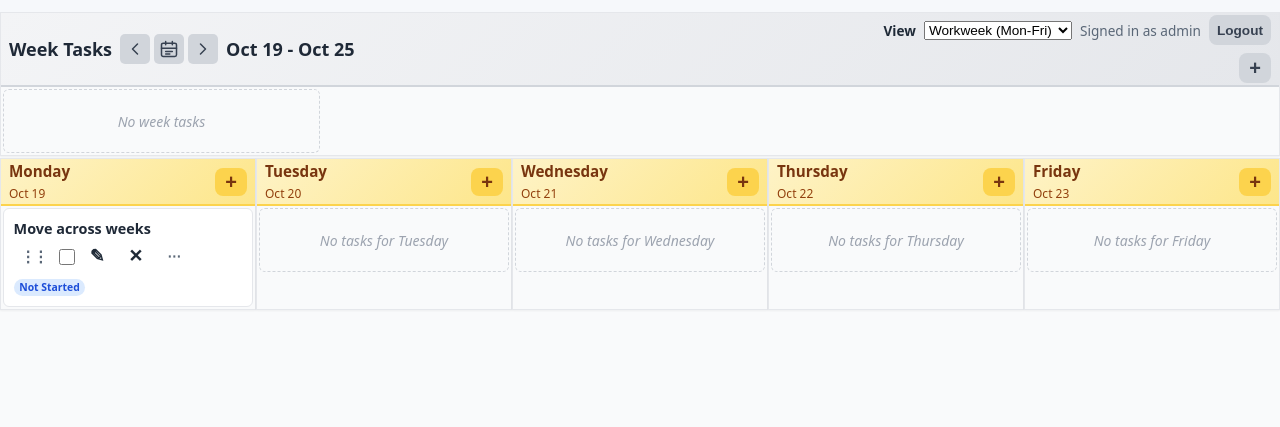
BoardPage week navigation › moves a task to another week with the context-menu Move here flow
Click the button named "More actions for Move across weeks".
click(174, 257)  # box top-left (158, 244), bottom-right (190, 270)
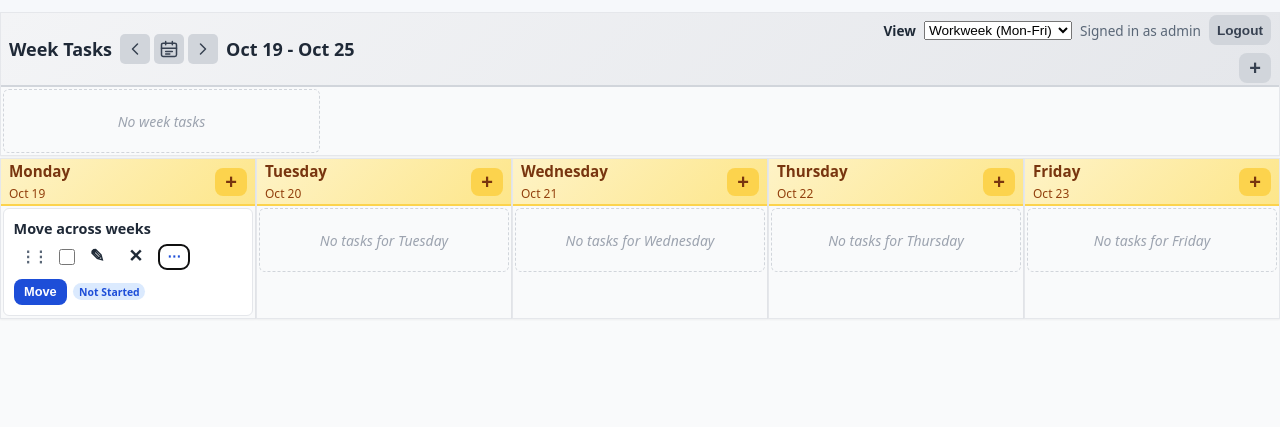
Click the menu item "Move".
click(40, 292)  # box top-left (14, 279), bottom-right (67, 305)
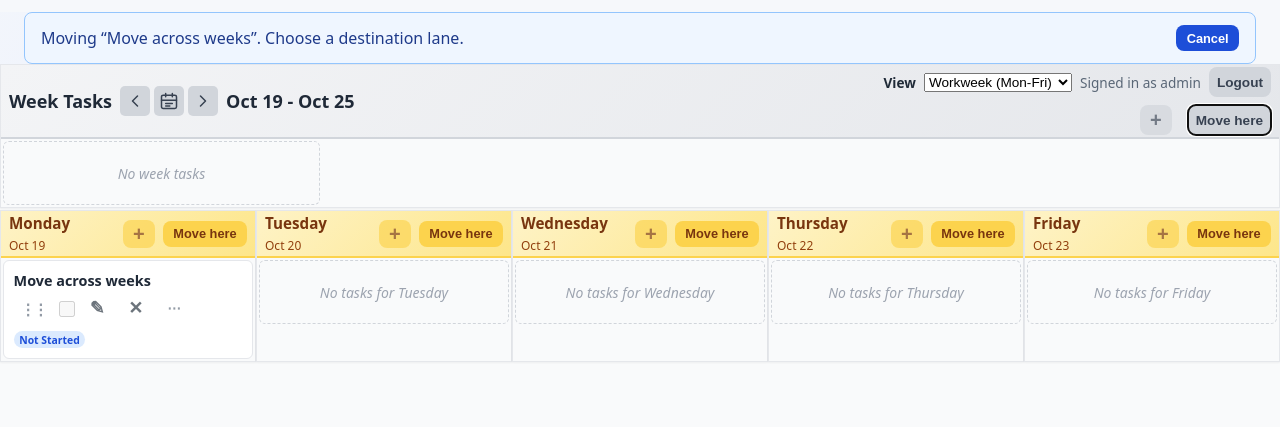
Expected: the button with aria-label "Cancel move" is shown, top-left (1176, 25), bottom-right (1239, 51)
Click the button named "Go to next week".
click(203, 101)  # box top-left (188, 86), bottom-right (218, 116)
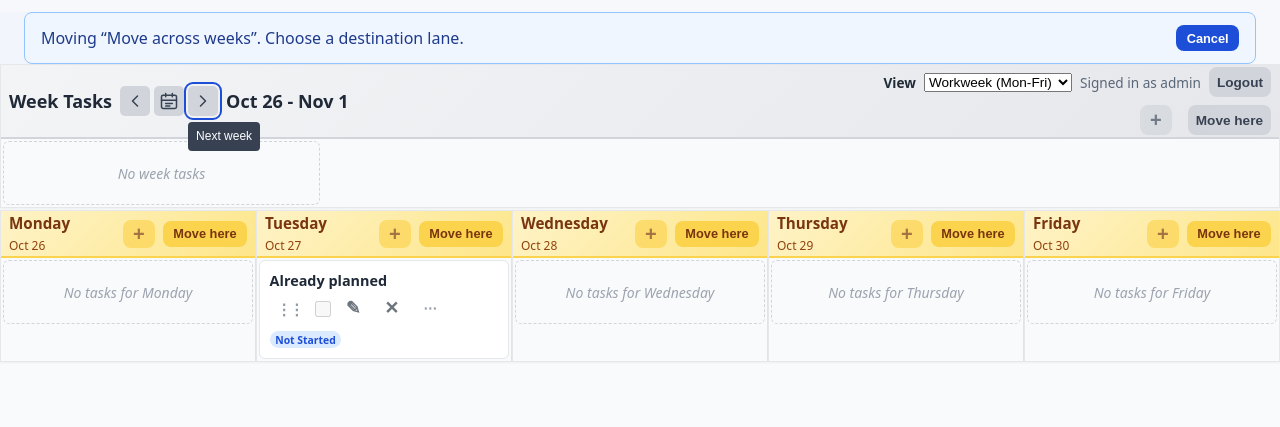
Click the button with aria-label "Move here to Tuesday".
click(461, 234)  # box top-left (419, 221), bottom-right (503, 247)
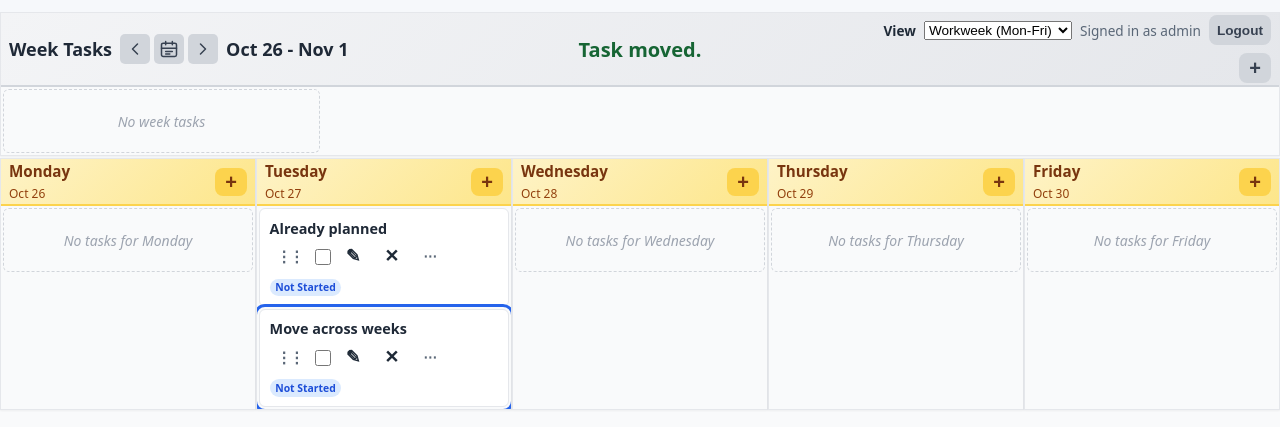
Expected: the text "Move across weeks" is shown once, top-left (270, 319), bottom-right (407, 338)
Expected: the text "Already planned" is shown once, top-left (270, 219), bottom-right (387, 238)
Click the button named "Go to previous week".
click(135, 49)  # box top-left (120, 34), bottom-right (150, 64)
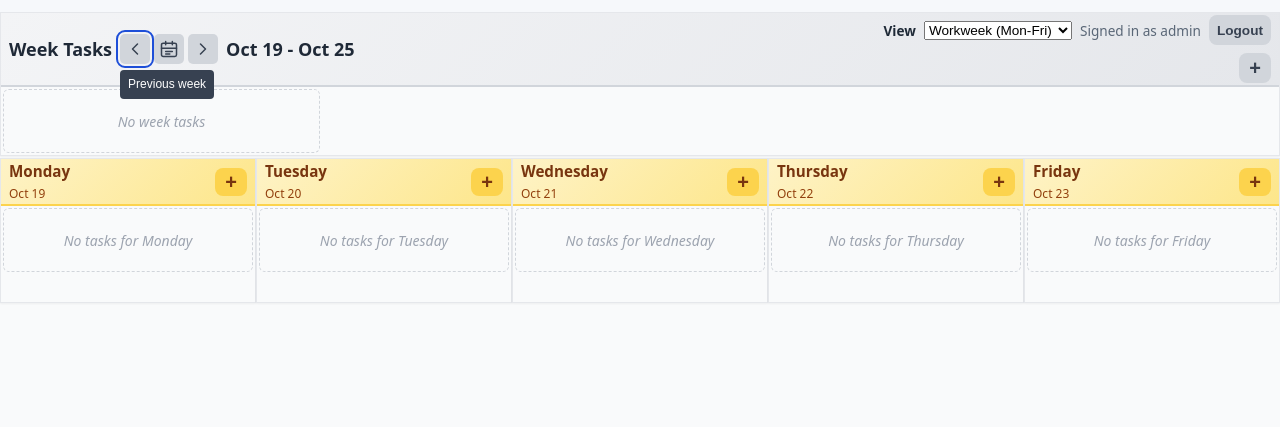
Expected: the text "Move across weeks" is gone
Click the button named "Go to next week".
click(203, 49)  # box top-left (188, 34), bottom-right (218, 64)
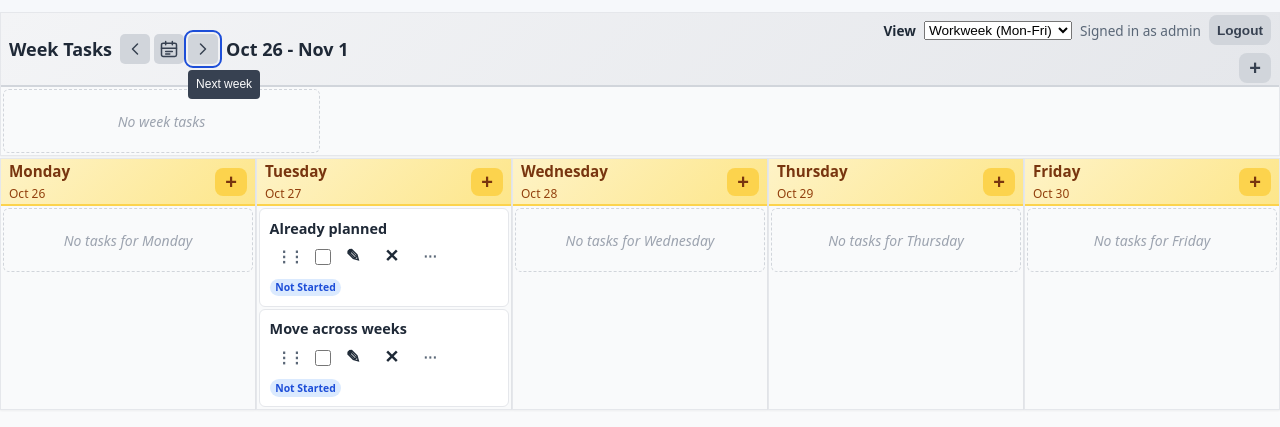
Expected: the text "Move across weeks" is shown once, top-left (270, 319), bottom-right (407, 338)
